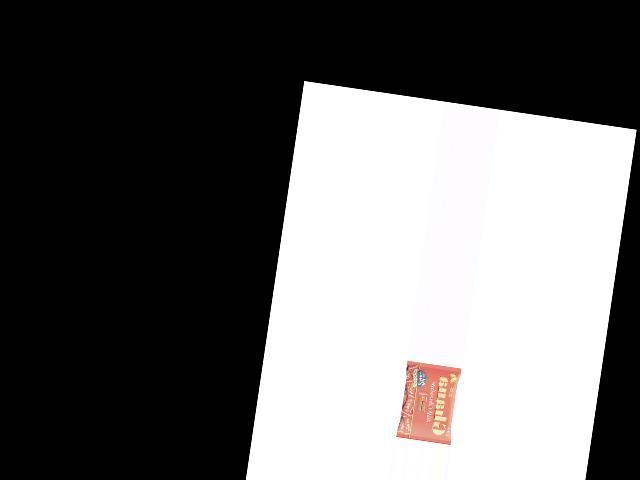chocolate: (394, 359, 460, 443)
